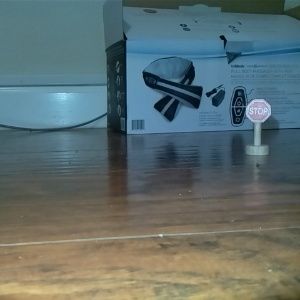stop sign: (242, 97, 273, 158)
